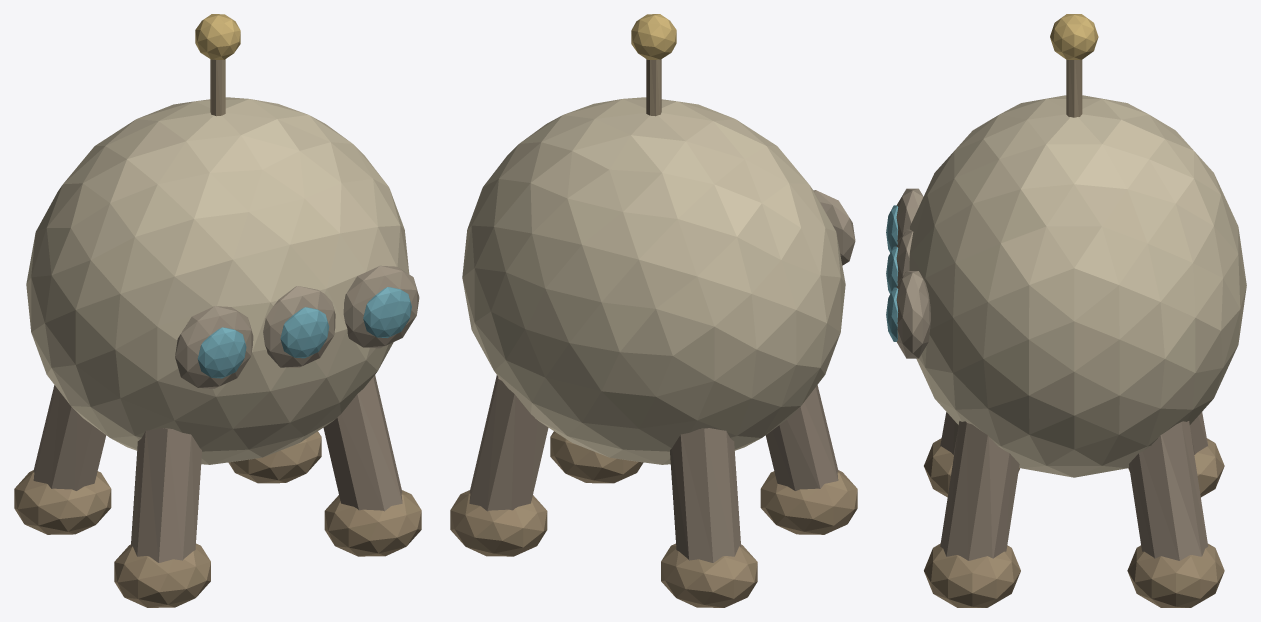
The model's file is spherical_robot_blockout.glb.
3 views of the same model, side by side, from view 1: azimuth 30°, elevation 25°; view 2: azimuth 150°, elevation 25°; view 3: azimuth 270°, elevation 25° (orthographic).
Visible parts, largest first — view 1: body, leg_0_0, leg_1_0, leg_0_1, foot_0_0, foot_1_0, foot_0_1, lens_rim_0, lens_rim_2, lens_rim_1, foot_1_1, lens_0 (+4 smaller); view 2: body, leg_0_1, leg_1_1, leg_0_0, foot_0_1, foot_1_1, foot_0_0, foot_1_0, antenna_tip, lens_rim_0, antenna; view 3: body, leg_1_0, leg_1_1, foot_1_1, foot_1_0, lens_rim_2, antenna_tip, foot_0_0, foot_0_1, antenna, lens_rim_0, lens_rim_1 (+3 smaller).
Part boxes in pixels (bbox=[...]): body: bbox=[26, 97, 409, 464]; leg_0_0: bbox=[130, 428, 201, 562]; leg_1_0: bbox=[323, 375, 402, 511]; leg_0_1: bbox=[33, 385, 106, 490]; foot_0_0: bbox=[114, 543, 210, 607]; foot_1_0: bbox=[324, 490, 421, 556]; foot_0_1: bbox=[14, 470, 111, 534]; lens_rim_0: bbox=[175, 306, 253, 388]; lens_rim_2: bbox=[343, 265, 419, 348]; lens_rim_1: bbox=[263, 286, 335, 367]; foot_1_1: bbox=[228, 431, 321, 483]; lens_0: bbox=[197, 327, 246, 378]; body: bbox=[462, 97, 845, 464]; leg_0_1: bbox=[670, 428, 741, 562]; leg_1_1: bbox=[469, 375, 548, 511]; leg_0_0: bbox=[765, 385, 838, 490]; foot_0_1: bbox=[661, 543, 757, 607]; foot_1_1: bbox=[450, 490, 547, 556]; foot_0_0: bbox=[760, 470, 857, 534]; foot_1_0: bbox=[550, 431, 643, 483]; antenna_tip: bbox=[631, 14, 676, 59]; lens_rim_0: bbox=[813, 190, 855, 265]; antenna: bbox=[646, 59, 661, 116]; body: bbox=[909, 95, 1246, 477]; leg_1_0: bbox=[940, 421, 1019, 560]; leg_1_1: bbox=[1129, 421, 1208, 560]; foot_1_1: bbox=[1127, 543, 1224, 607]; foot_1_0: bbox=[924, 543, 1020, 607]; lens_rim_2: bbox=[896, 271, 930, 358]; antenna_tip: bbox=[1050, 14, 1098, 59]; foot_0_0: bbox=[924, 438, 1019, 497]; foot_0_1: bbox=[1128, 438, 1224, 497]; antenna: bbox=[1066, 60, 1082, 117]; lens_rim_0: bbox=[896, 188, 923, 243]; lens_rim_1: bbox=[896, 229, 913, 285].
Bounding box in the file's own units: 0.92 × 1.34 × 0.815.
